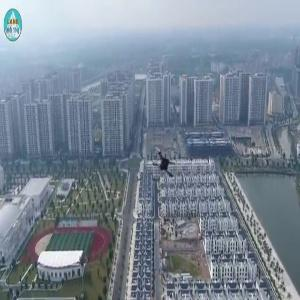drone: (142, 146, 182, 186)
